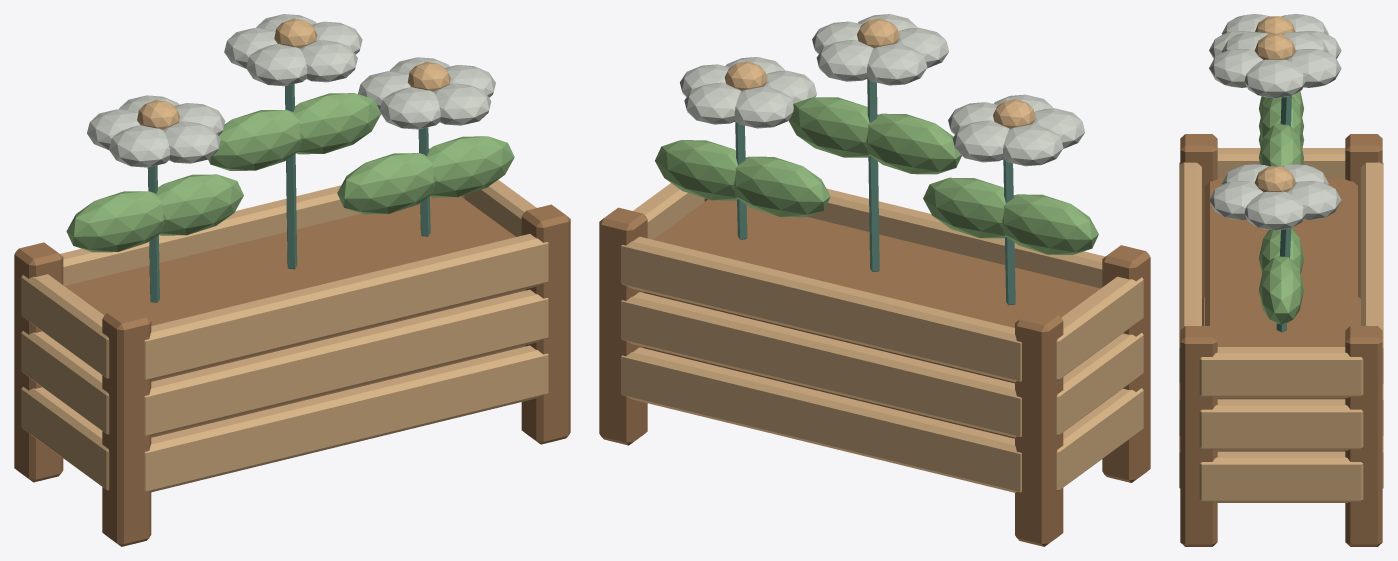
3 views of the same model, side by side, from view 1: azimuth 30°, elevation 25°; view 2: azimuth 150°, elevation 25°; view 3: azimuth 270°, elevation 25° (orthographic). The views are drawn at different scales.
Visible parts, largest first — view 1: village-flower-box-01; view 2: village-flower-box-01; view 3: village-flower-box-01.
Part boxes in pixels (bbox=[...]): village-flower-box-01: bbox=[14, 14, 570, 546]; village-flower-box-01: bbox=[599, 14, 1150, 546]; village-flower-box-01: bbox=[1179, 14, 1383, 546].
Size of the model in its own units: 1.2 by 1.09 by 0.495.
